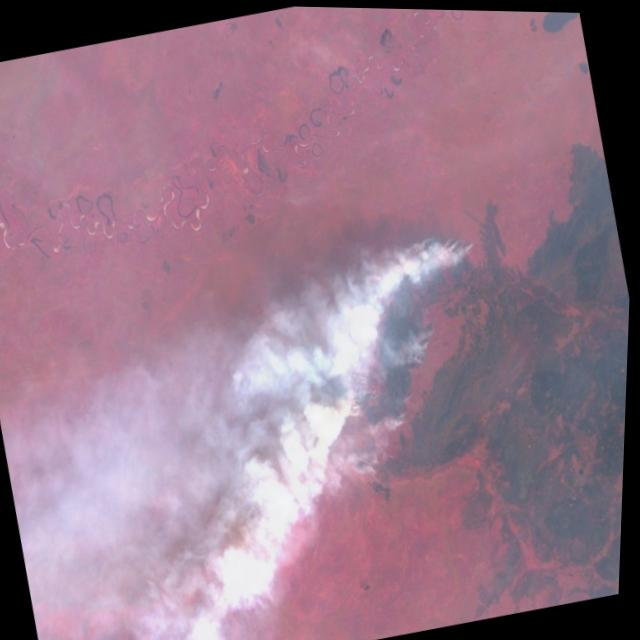fire: (293, 211, 528, 504)
